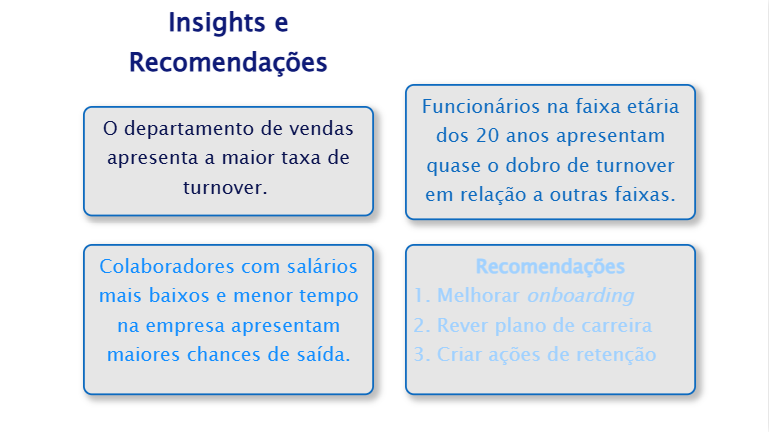

The dashboard page shown, as its layout file describes it:
{"tool":"powerbi","page":{"name":"Insights","canvas":[1280,720],"ordinal":3},"visuals":[{"type":"textbox","box":[138.1,176.8,485.1,183.6],"z":0},{"type":"textbox","box":[675.4,139.8,485.1,227.4],"z":1000},{"type":"textbox","box":[137.7,406.5,485.5,252],"z":2000},{"type":"textbox","box":[675.3,406.5,485.5,252],"z":3000},{"type":"textbox","box":[138.1,0,485.1,146.5],"z":4000}]}

Visuals, with their boxes in screenshot pixels (x1, y1, x2, y2), scaled from the page's 1280x720 canvas onto the 769x432 screenshot:
textbox: 83:106:374:216
textbox: 406:84:697:220
textbox: 83:244:374:395
textbox: 406:244:697:395
textbox: 83:0:374:88
